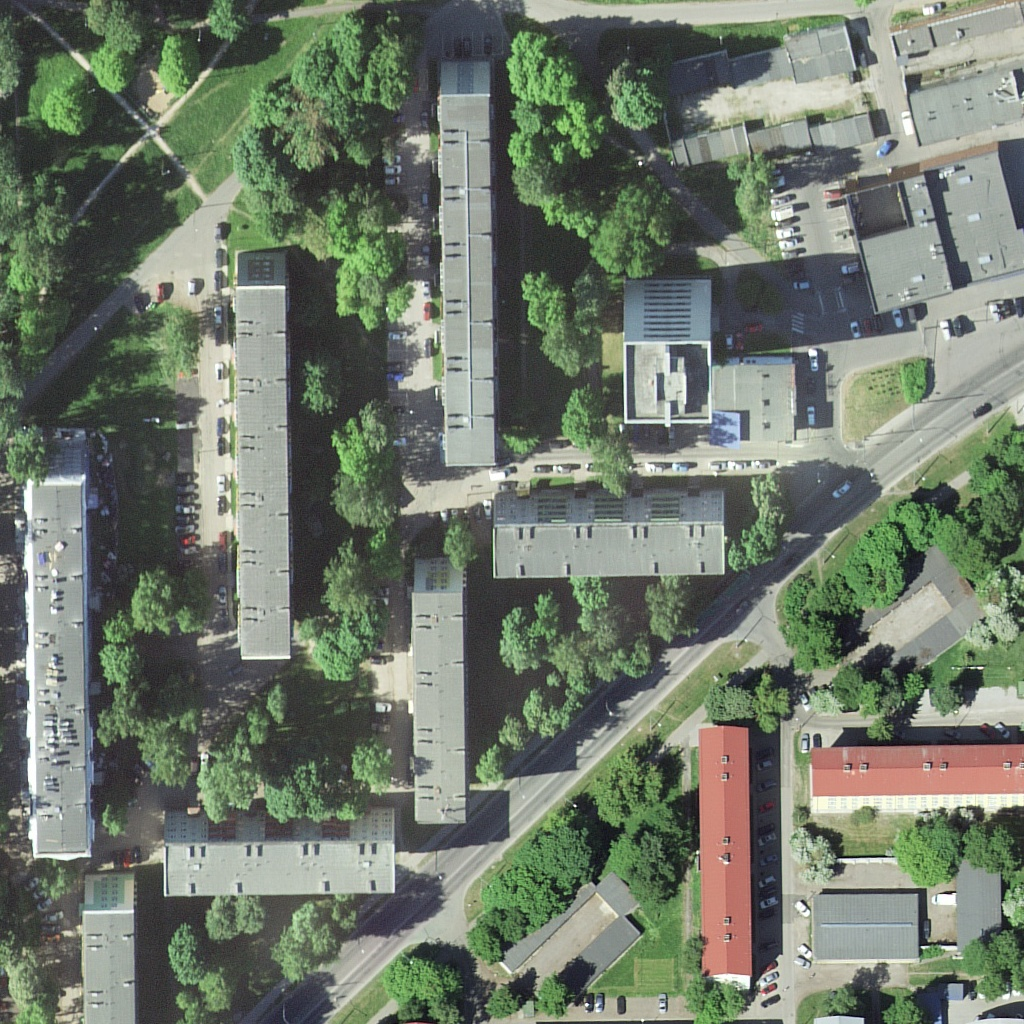building: (22, 427, 103, 864), (432, 61, 505, 477), (838, 150, 1024, 313), (488, 481, 727, 582), (238, 254, 295, 665), (166, 815, 405, 899), (796, 740, 1021, 826), (613, 267, 725, 434), (887, 3, 1022, 141), (692, 725, 758, 988), (413, 561, 474, 829), (509, 889, 646, 1005), (848, 566, 964, 679), (802, 881, 926, 969), (79, 872, 145, 1024), (668, 112, 876, 156), (710, 358, 806, 449), (780, 20, 862, 98), (949, 856, 1006, 952)
